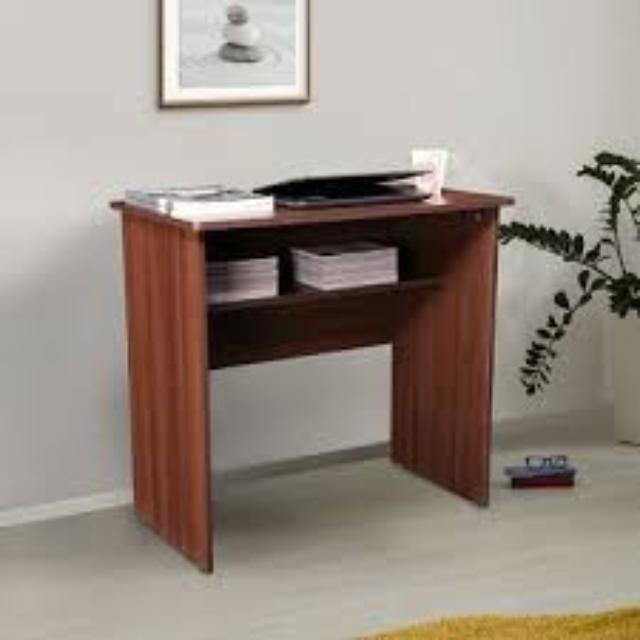obstacle: (74, 134, 538, 568)
